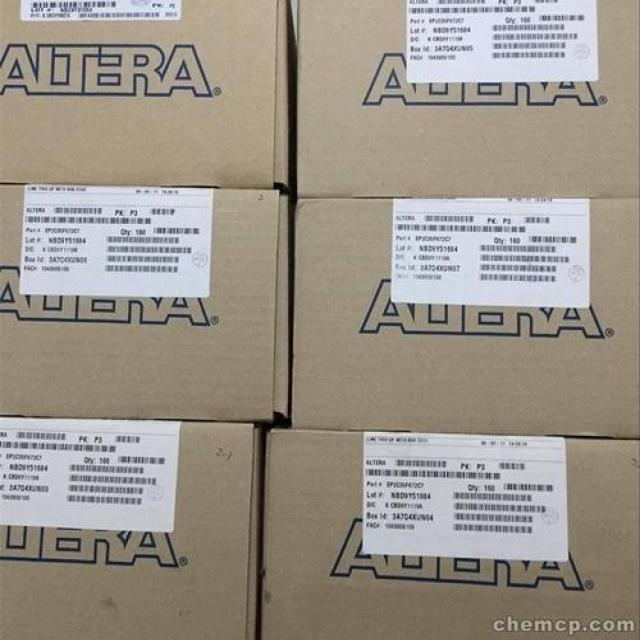box: (289, 196, 639, 439), (259, 429, 637, 639), (0, 186, 293, 426), (297, 1, 639, 197), (0, 1, 298, 195), (0, 421, 263, 638)
